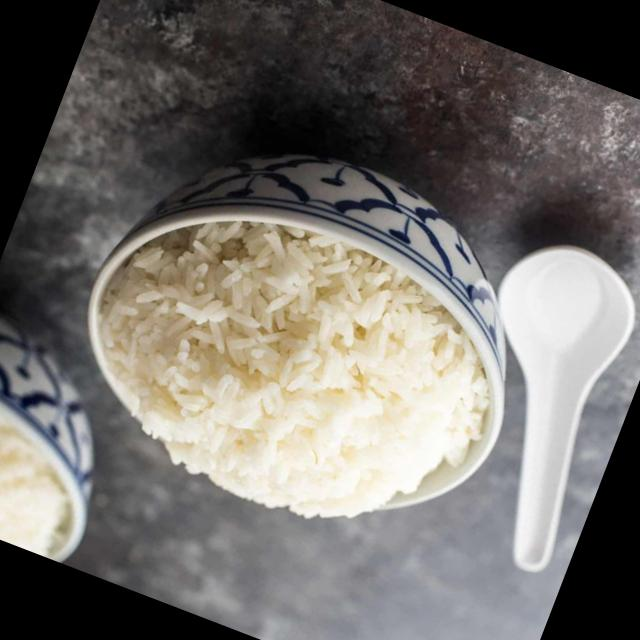rice: (92, 222, 491, 523), (0, 419, 67, 555)
